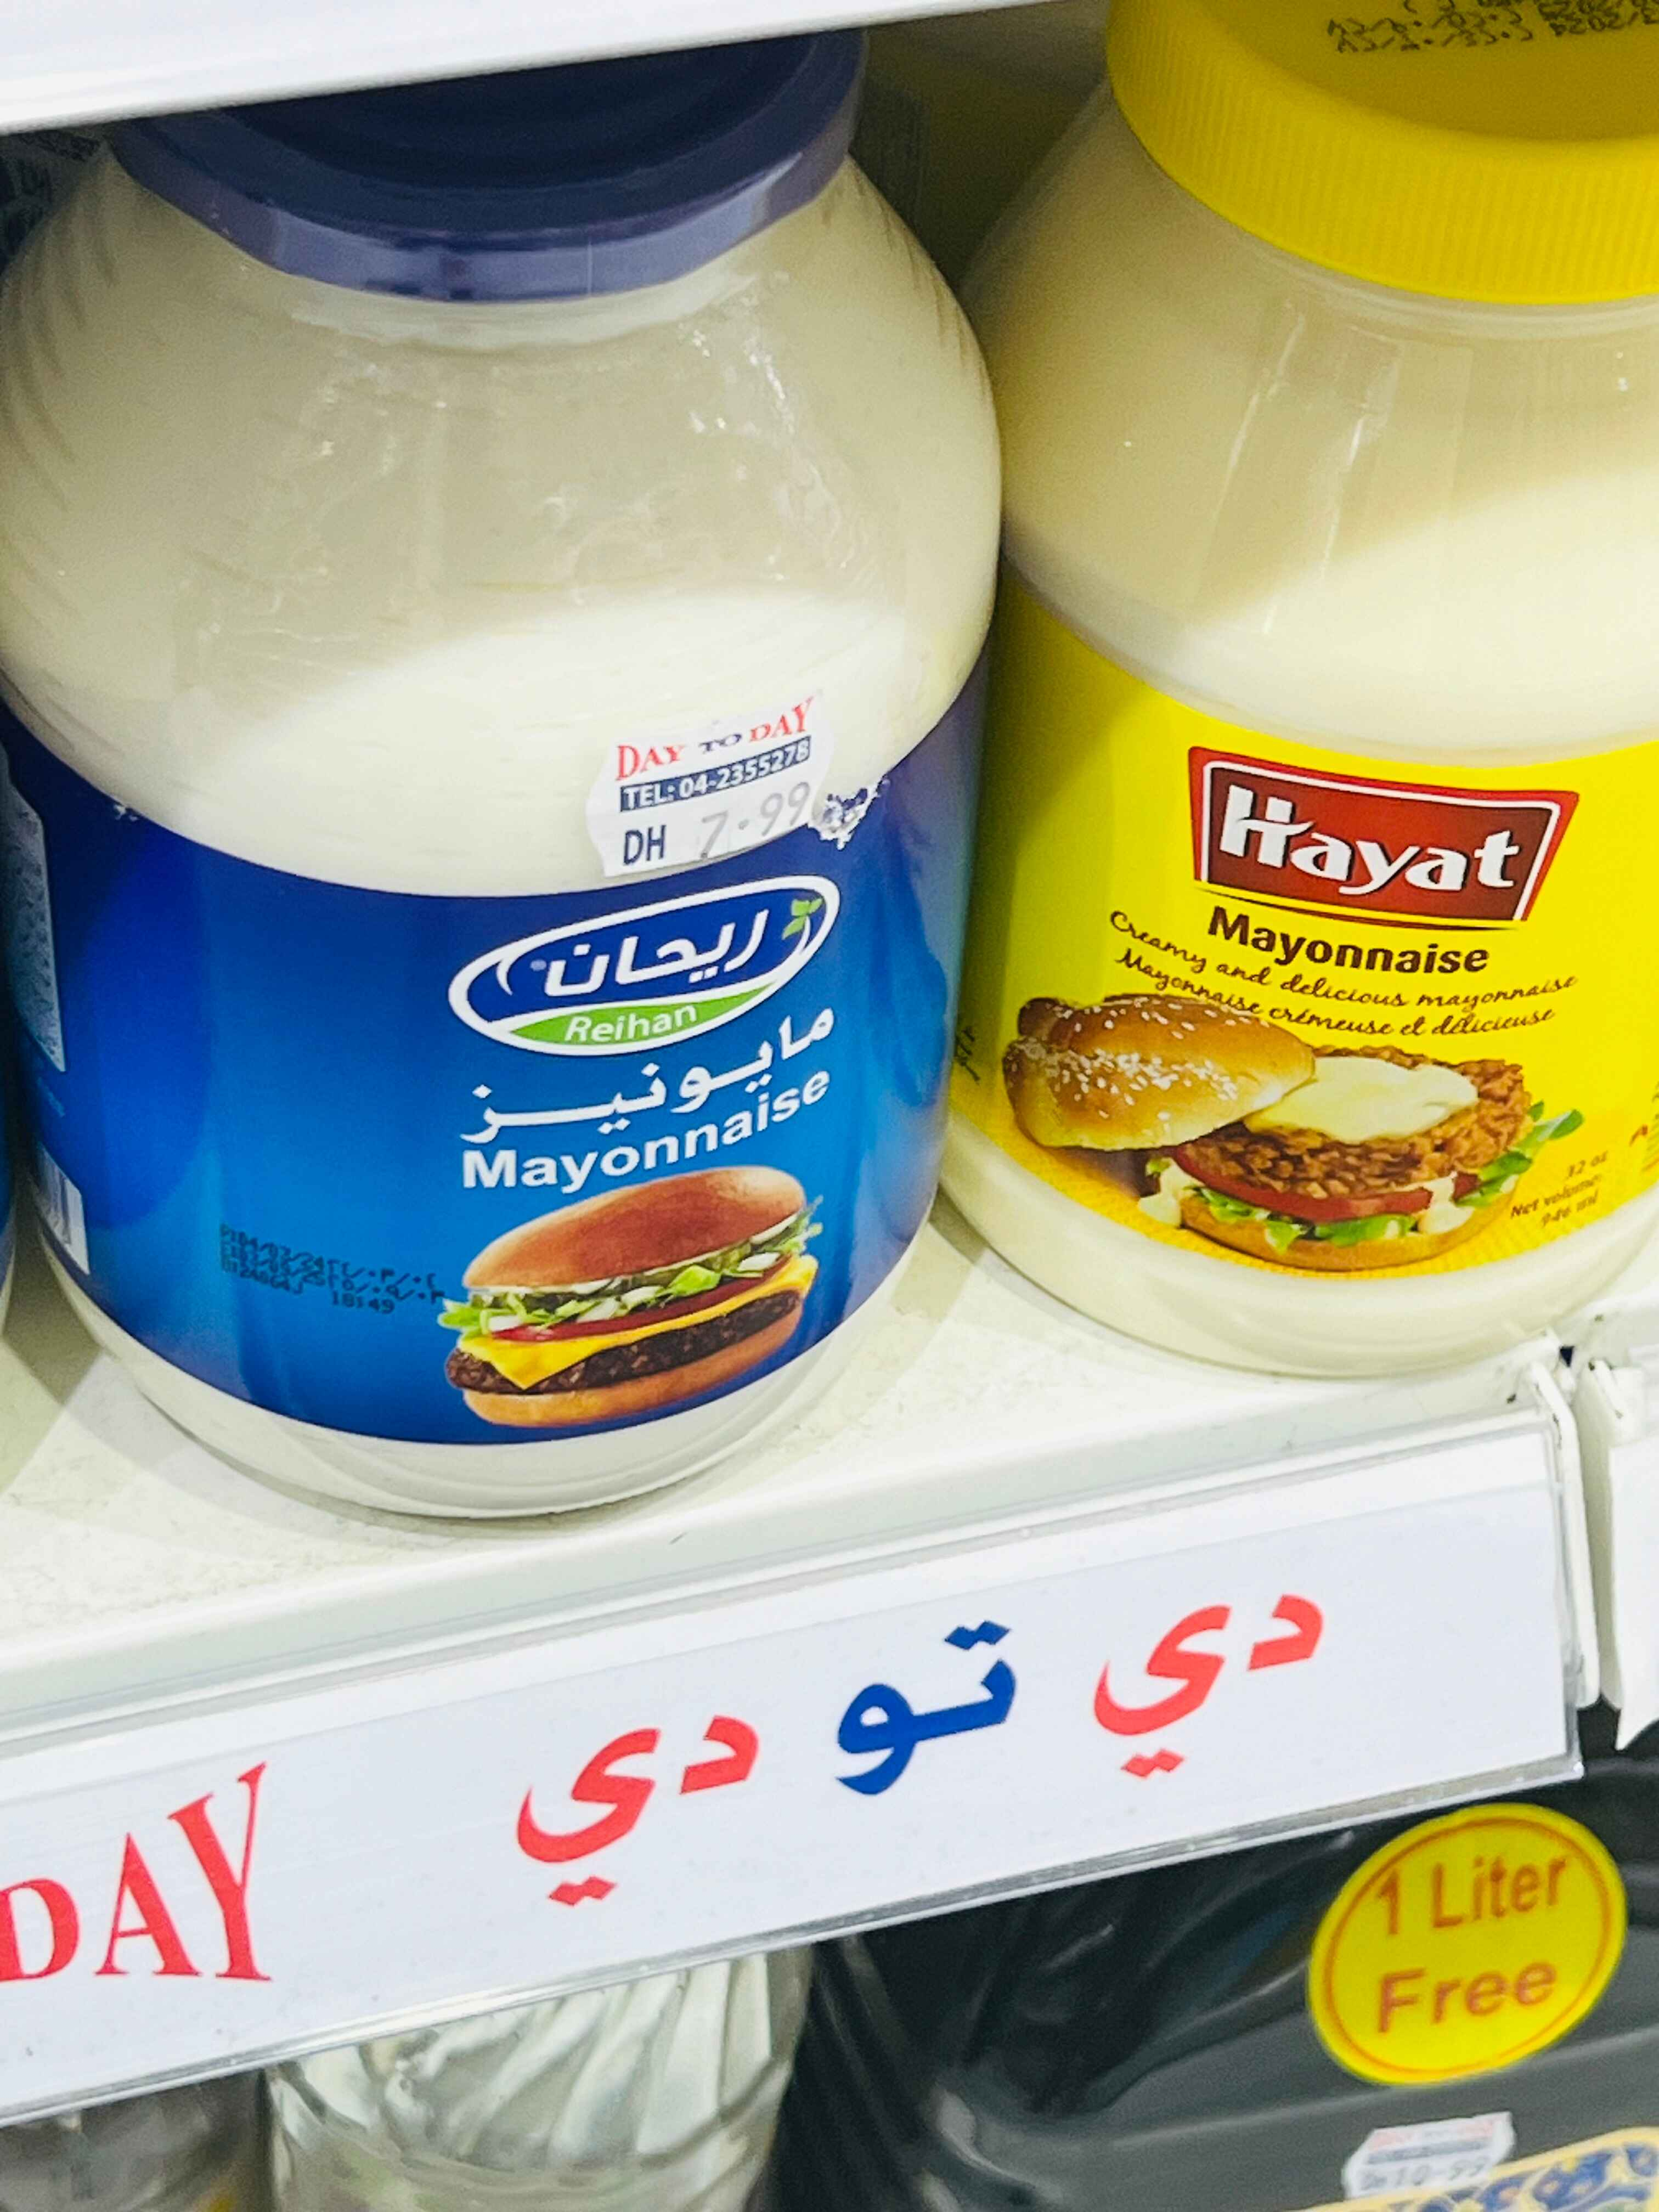PriceTagSmall: (601, 698, 845, 869), (1342, 2104, 1514, 2207)
